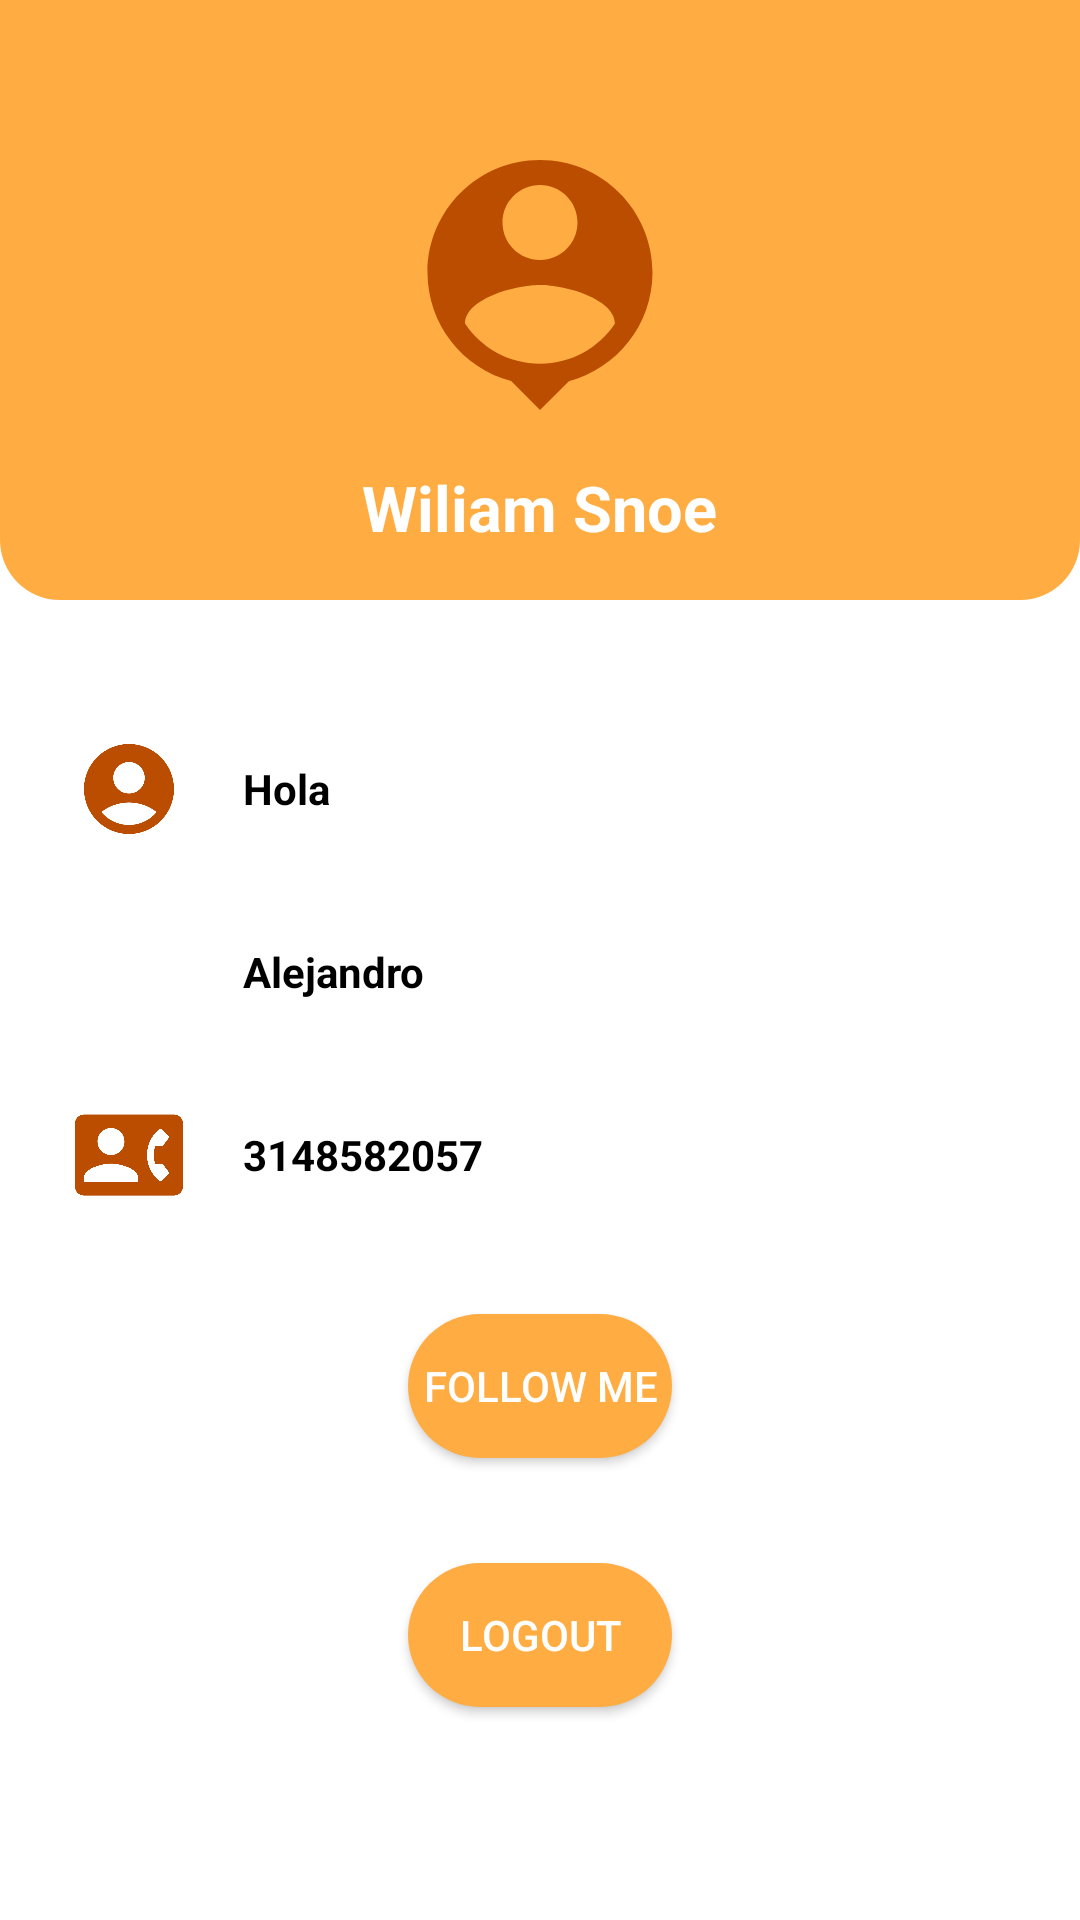

Icons on this 1080px×1920px Android screen, each with the point to tap as (x=x, y=y):
account circle: (x=129, y=789)
contact phone: (x=129, y=1155)
person pin: (x=540, y=285)
